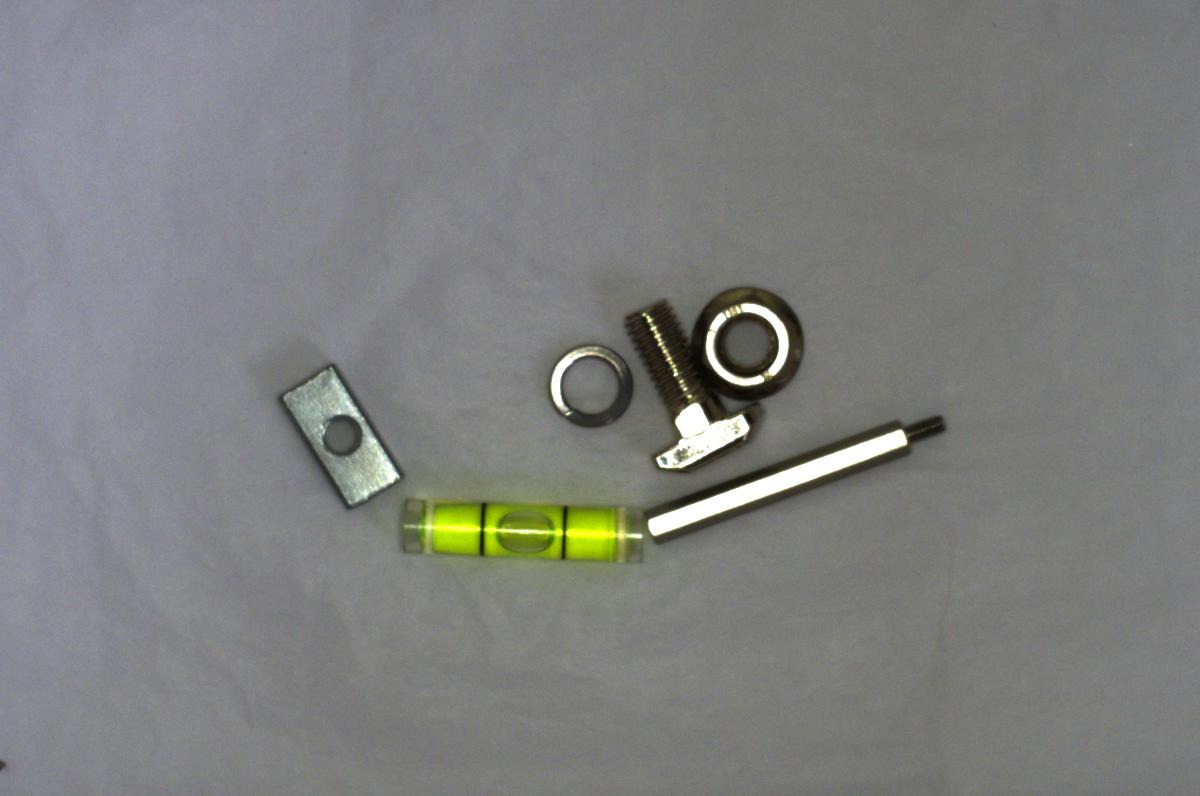Flange nut: (687, 279, 806, 400)
Hexagonal steel column: (642, 405, 961, 545)
Horizontal bubble: (388, 495, 648, 569)
Rectangular nut: (281, 363, 402, 514)
Spring washer: (537, 340, 640, 433)
T-shaped screw: (624, 293, 766, 475)
